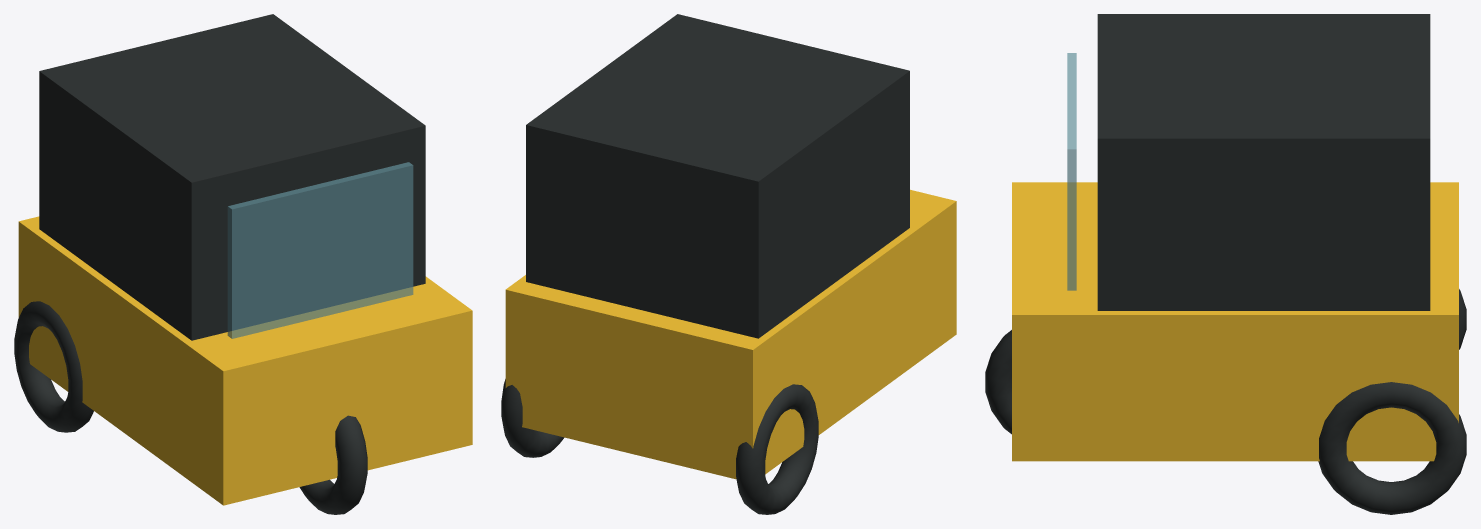
File: auto-rickshaw.glb
The picture shows the model from 3 angles, left to right: view 1: azimuth 30°, elevation 25°; view 2: azimuth 150°, elevation 25°; view 3: azimuth 270°, elevation 25°; orthographic projection. The views are drawn at different scales.
Visible parts, largest first — view 1: cabin, lower, windshield, wheel (×2); view 2: cabin, lower, wheel (×2); view 3: cabin, lower, wheel (×2), windshield.
Part boxes in pixels (x1=…): cabin: x1=39, y1=14, x2=425, y2=340; lower: x1=18, y1=216, x2=472, y2=505; windshield: x1=227, y1=162, x2=413, y2=338; wheel (×2): x1=14, y1=301, x2=367, y2=514; cabin: x1=526, y1=14, x2=909, y2=338; lower: x1=505, y1=189, x2=956, y2=479; wheel (×2): x1=501, y1=379, x2=818, y2=514; cabin: x1=1097, y1=14, x2=1430, y2=310; lower: x1=1012, y1=182, x2=1458, y2=461; wheel (×2): x1=985, y1=330, x2=1466, y2=514; windshield: x1=1067, y1=53, x2=1076, y2=290.
Bounding box in the file's own units: 1.73 × 2.17 × 2.53.
